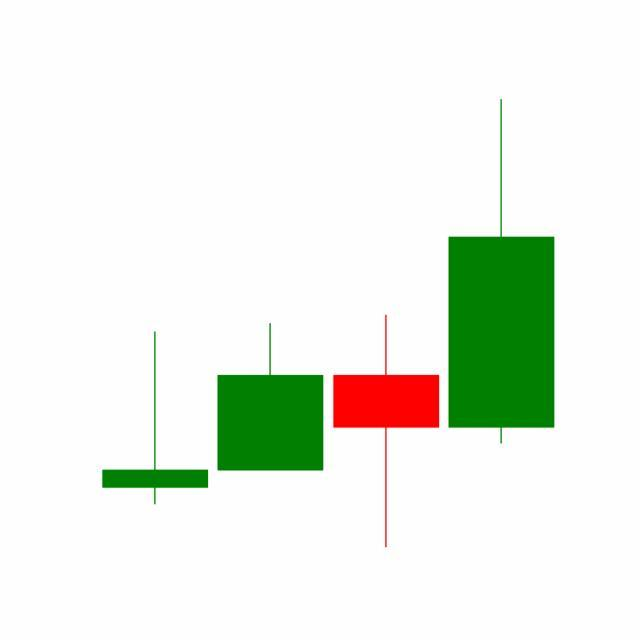Spinning Top: (329, 312, 445, 551)
